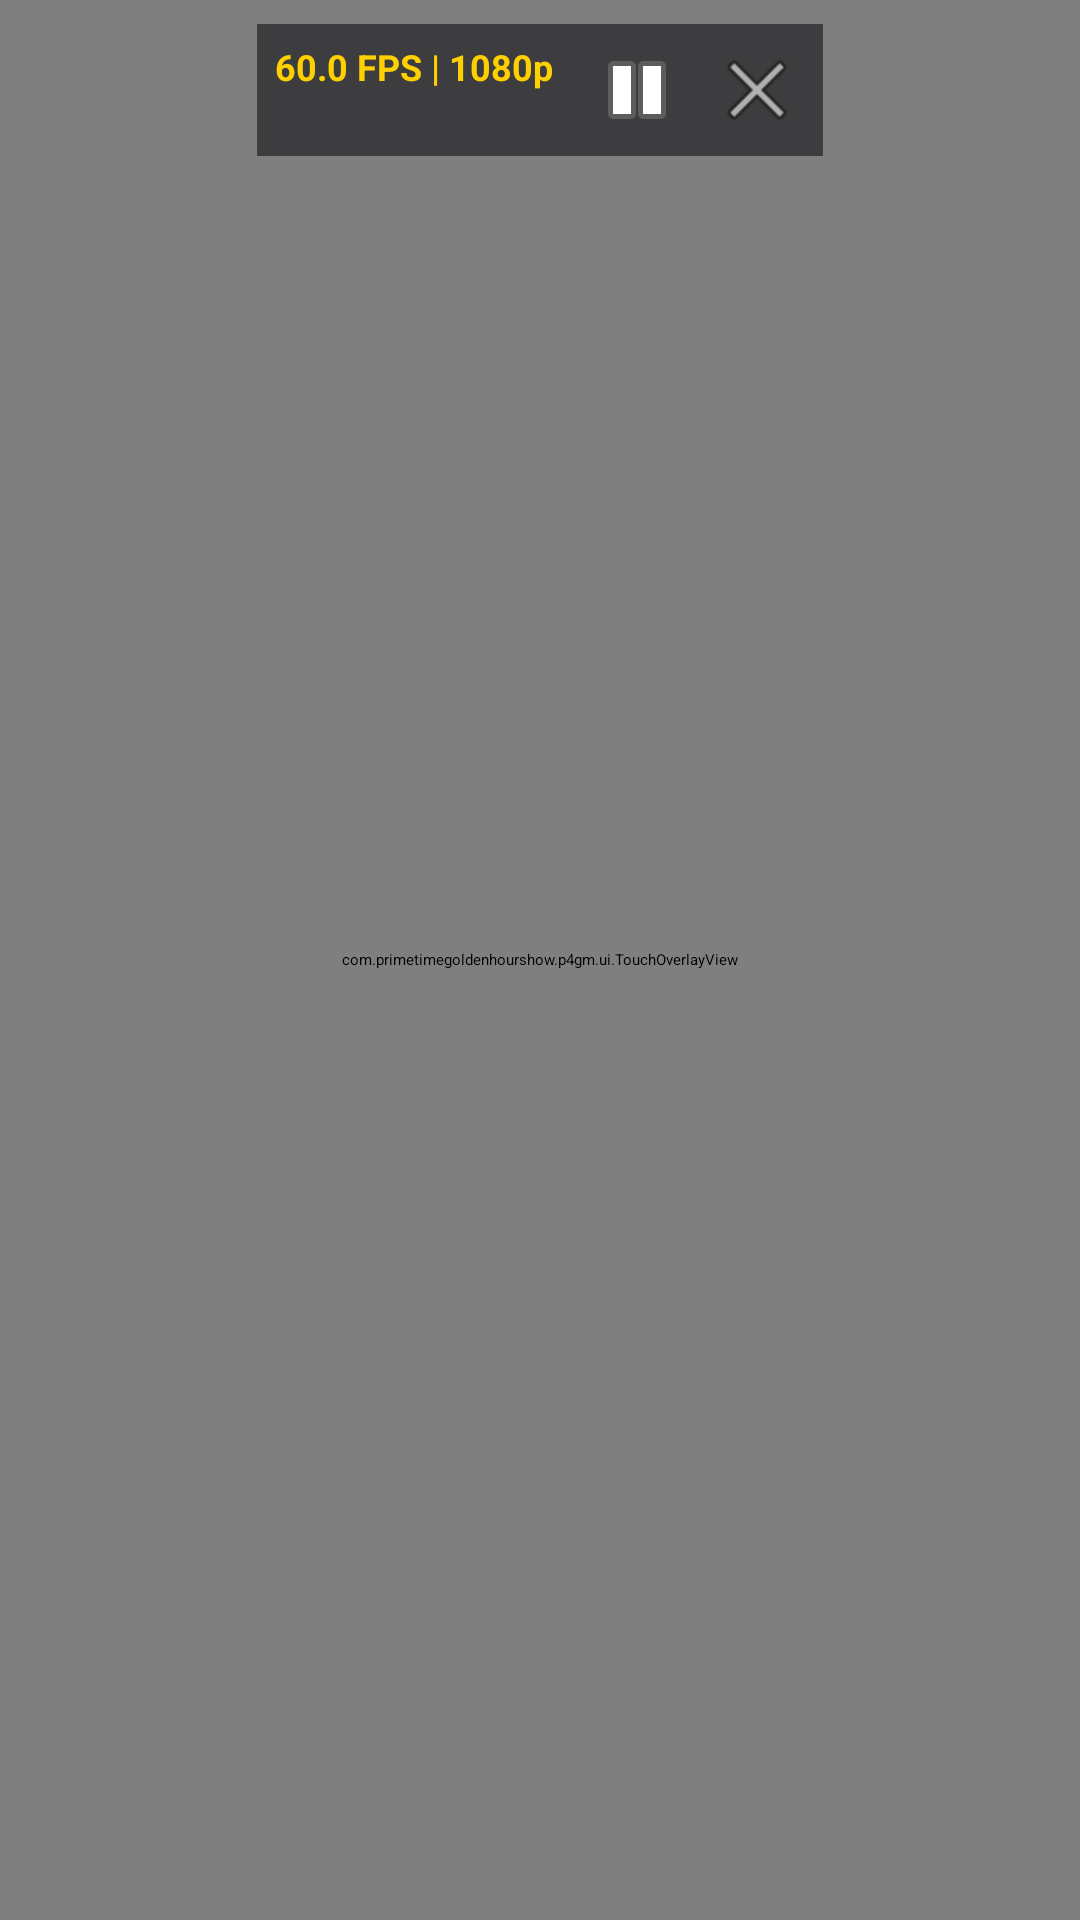

Screen size 1080*1920. Icon name, then its box in pixels as (x1, y1, x2, y2):
Exit: (729, 62, 785, 118)
Pause: (608, 61, 666, 119)
